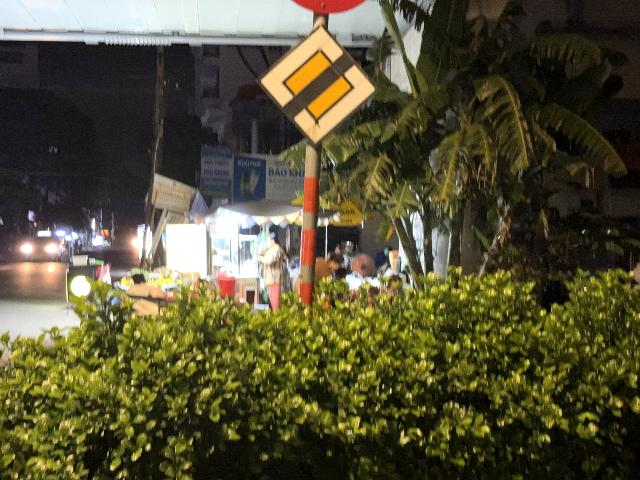het-duong-uu-tien: (256, 25, 381, 148)
